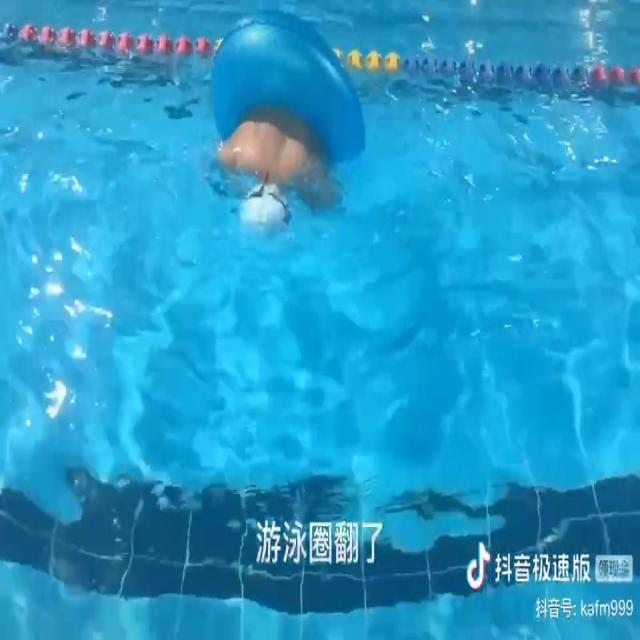Drowning: (205, 99, 350, 234)
